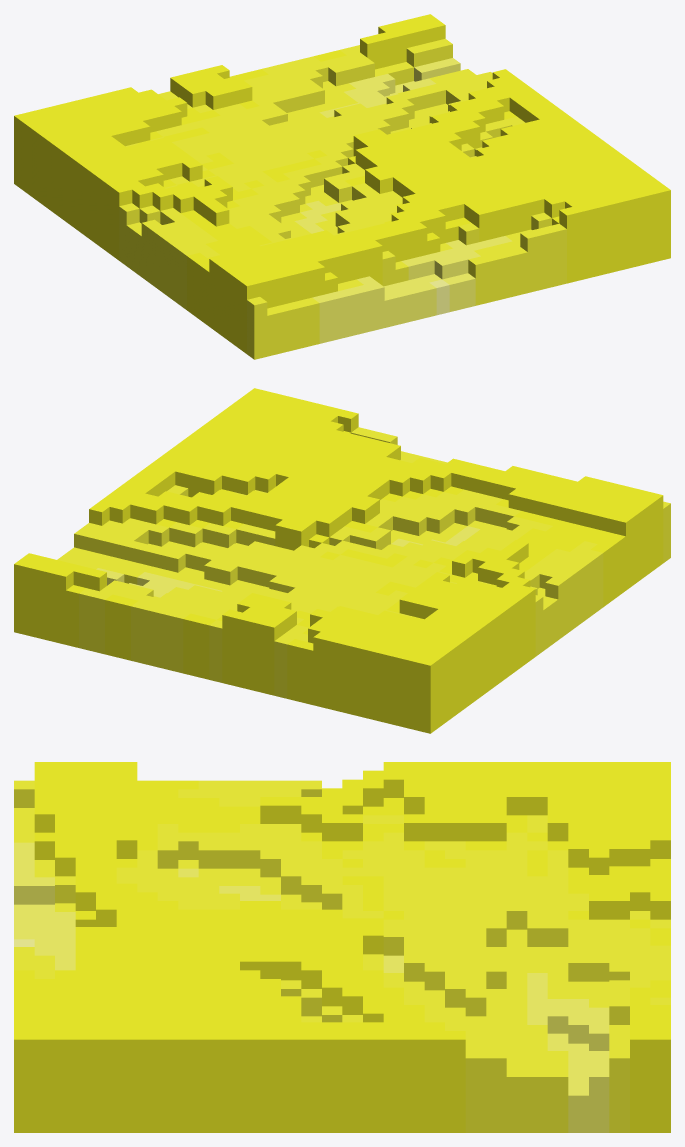
Rendered from Destert Map-10.obj.
3 renders of one model, top to bottom at view 1: azimuth 30°, elevation 25°; view 2: azimuth 150°, elevation 25°; view 3: azimuth 270°, elevation 25°, orthographic. The views are drawn at different scales.
Size of the model in its own units: 3.2 by 0.5 by 3.2.
1 material, 1 textured.
